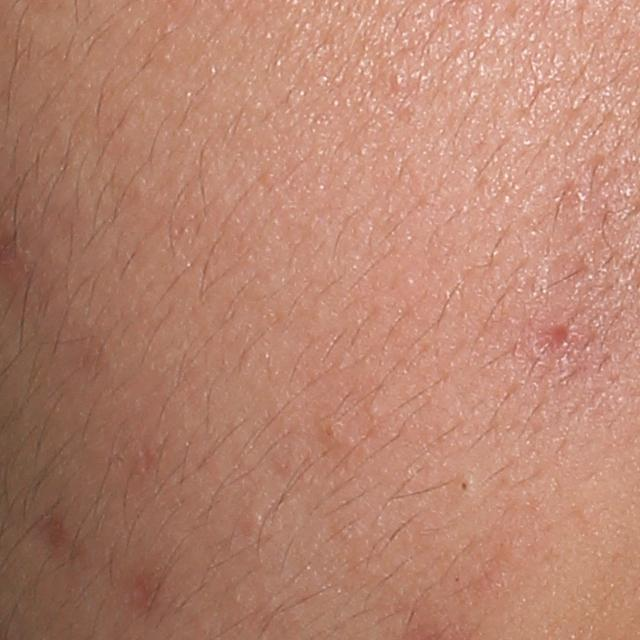comedo: (314, 414, 349, 445), (452, 472, 479, 501), (369, 401, 384, 422)
